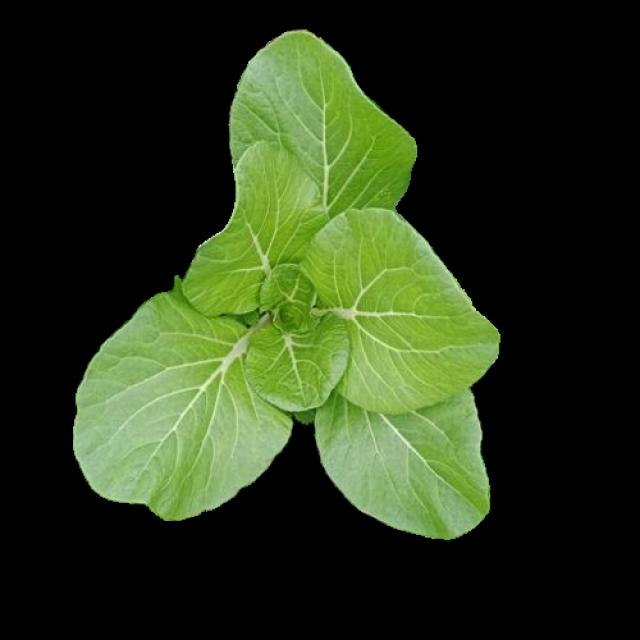healthy: (71, 25, 496, 532)
mature: (74, 28, 499, 535)
